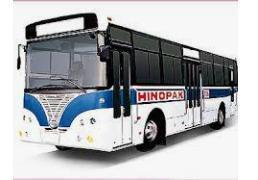bus: (16, 13, 239, 153)
